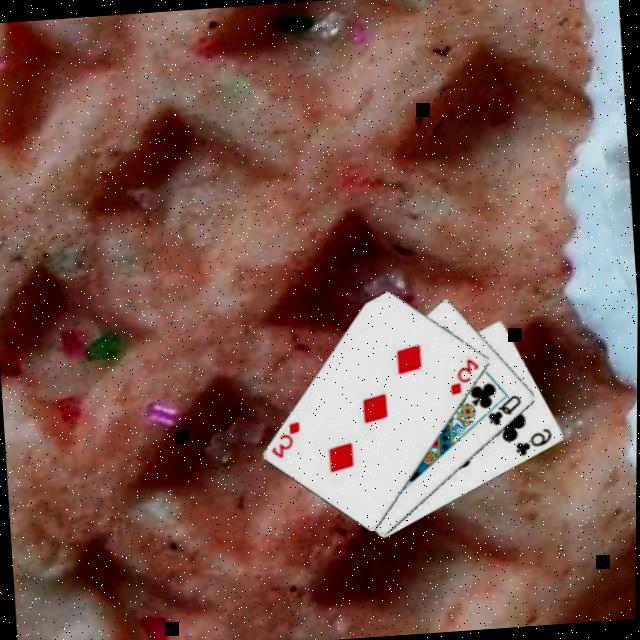3D: (445, 352, 483, 396), (266, 416, 304, 460)
6C: (511, 423, 555, 458)
QC: (483, 389, 525, 427)
